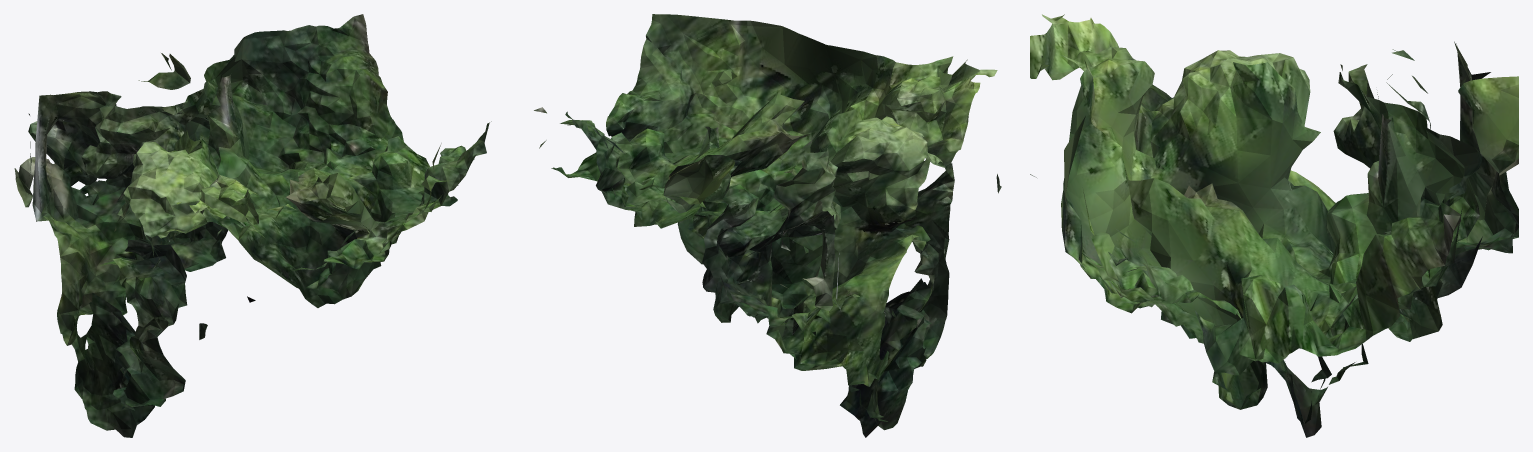
3 views of the same model, side by side, from view 1: azimuth 30°, elevation 25°; view 2: azimuth 150°, elevation 25°; view 3: azimuth 270°, elevation 25° (orthographic). The views are drawn at different scales.
Bounding box in the file's own units: 26.11 × 23.67 × 26.11.
6 materials, 6 textured.
